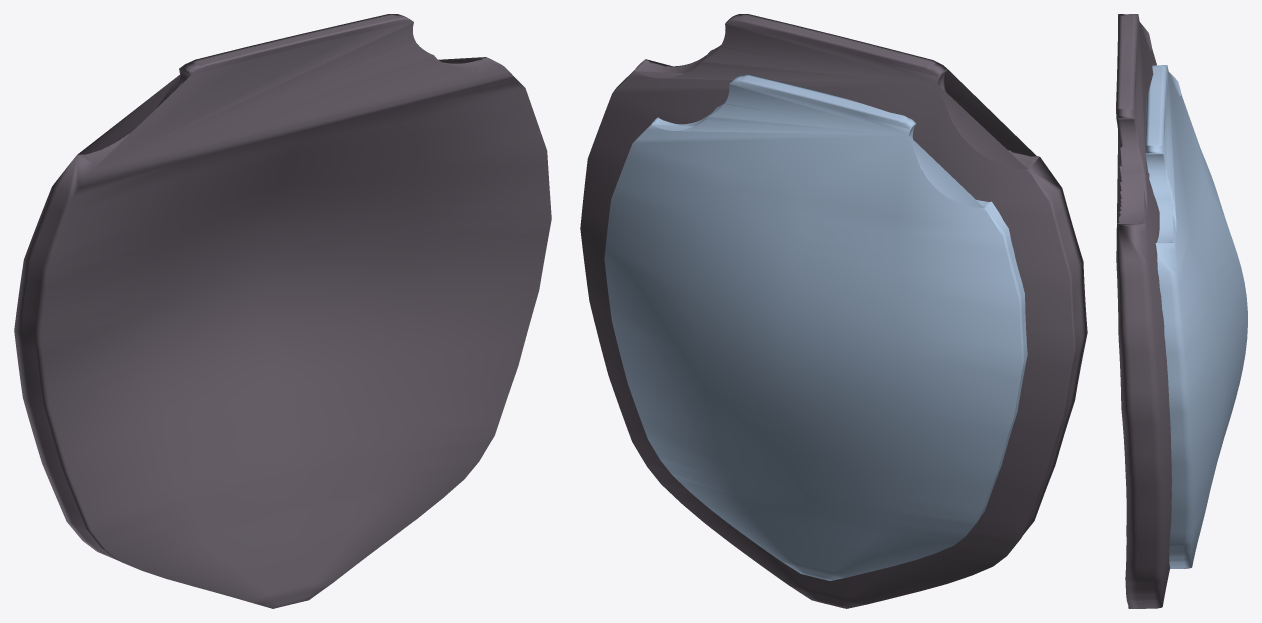
Rendered from tarcza 1.fbx.
3 views of the same model, side by side, from view 1: azimuth 30°, elevation 25°; view 2: azimuth 150°, elevation 25°; view 3: azimuth 270°, elevation 25° (orthographic). The views are drawn at different scales.
Visible parts, largest first — view 1: Cube; view 2: Cube.001, Cube; view 3: Cube.001, Cube.
Part boxes in pixels (left/top/right/bottom): Cube: left=14, top=14, right=551, bottom=608; Cube.001: left=604, top=74, right=1027, bottom=580; Cube: left=580, top=14, right=1087, bottom=608; Cube.001: left=1144, top=65, right=1247, bottom=568; Cube: left=1116, top=14, right=1171, bottom=608.
Size of the model in its own units: 278 by 292 by 64.23.
